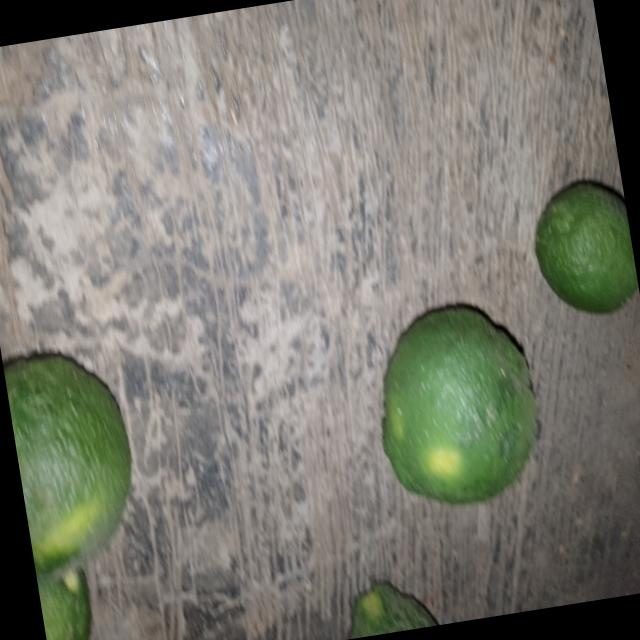agrume: (345, 269, 570, 531), (0, 324, 162, 591)
